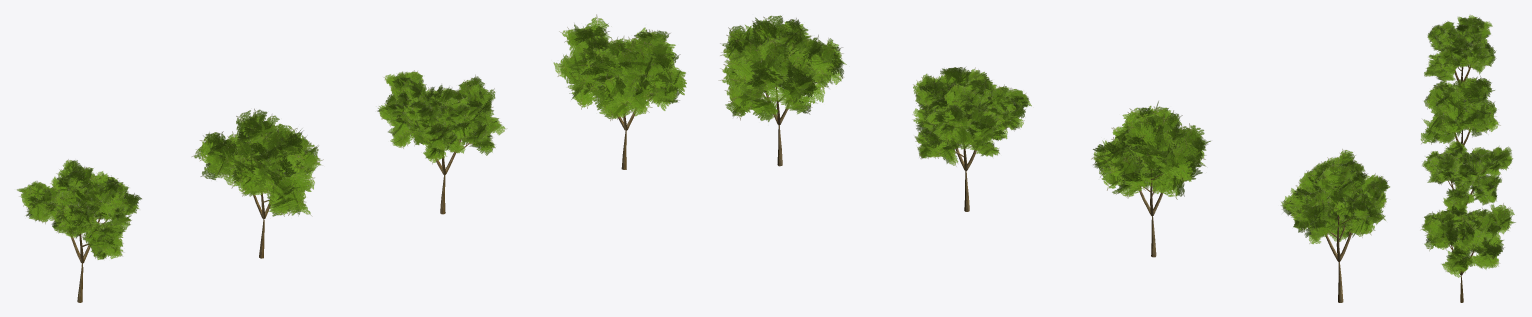
The model's file is tree_locust.glb.
3 views of the same model, side by side, from view 1: azimuth 30°, elevation 25°; view 2: azimuth 150°, elevation 25°; view 3: azimuth 270°, elevation 25° (orthographic). The views are drawn at different scales.
Parts seen in each view (by area): view 1: v1_lo_leaf, v0_lo_leaf, v1_hi_leaf, v0_hi_leaf; view 2: v1_lo_leaf, v1_hi_leaf, v0_lo_leaf, v0_hi_leaf, v0_hi_bark, v0_lo_bark; view 3: v1_lo_leaf, v0_lo_leaf, v1_hi_leaf, v0_hi_leaf, v1_lo_bark, v0_hi_bark, v0_lo_bark.
Boxes of the visible parts, box(x1,y1,x2,y2) form: v1_lo_leaf: box(553, 14, 686, 120); v0_lo_leaf: box(192, 108, 323, 216); v1_hi_leaf: box(377, 70, 505, 164); v0_hi_leaf: box(17, 159, 141, 259); v1_lo_leaf: box(718, 15, 846, 121); v1_hi_leaf: box(912, 67, 1031, 166); v0_lo_leaf: box(1091, 101, 1210, 199); v0_hi_leaf: box(1281, 149, 1389, 244); v0_hi_bark: box(1325, 208, 1353, 302); v0_lo_bark: box(1139, 168, 1163, 257); v1_lo_leaf: box(1421, 200, 1515, 277); v0_lo_leaf: box(1420, 75, 1500, 144); v1_hi_leaf: box(1422, 140, 1512, 206); v0_hi_leaf: box(1424, 15, 1496, 81); v1_lo_bark: box(1448, 232, 1485, 302); v0_hi_bark: box(1455, 41, 1477, 84); v0_lo_bark: box(1454, 118, 1470, 146).
Bounding box in the file's own units: 72.06 × 14.87 × 13.27.
Materials: 2 (2 with a texture image).
